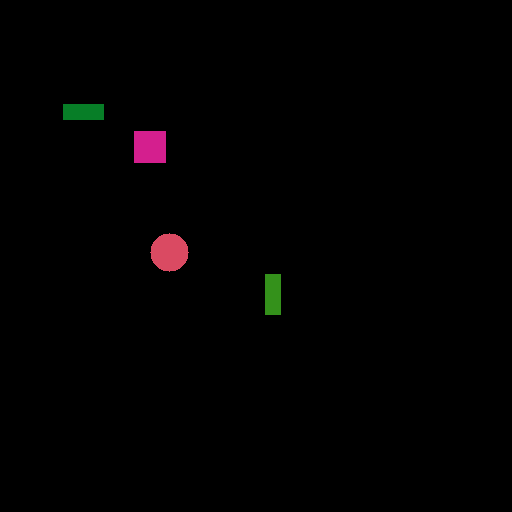circle: (150, 237, 189, 273)
side_rect: (59, 100, 108, 123)
square: (131, 128, 169, 166)
up_rect: (262, 270, 284, 317)
